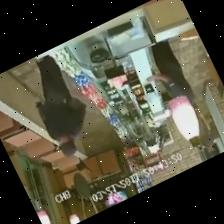person: (36, 55, 86, 155), (147, 40, 194, 103), (194, 105, 217, 155)
